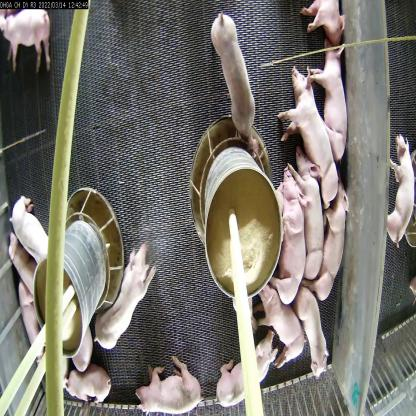Pig: (208, 13, 265, 168), (277, 64, 339, 206), (89, 244, 164, 349), (9, 181, 74, 280), (268, 153, 309, 301), (306, 44, 356, 164), (293, 140, 329, 280), (136, 347, 209, 415), (212, 325, 276, 400), (254, 278, 308, 362), (320, 177, 352, 302), (385, 118, 414, 251), (3, 4, 60, 69), (293, 277, 330, 374), (298, 0, 344, 48), (67, 361, 115, 407), (0, 226, 35, 289)
